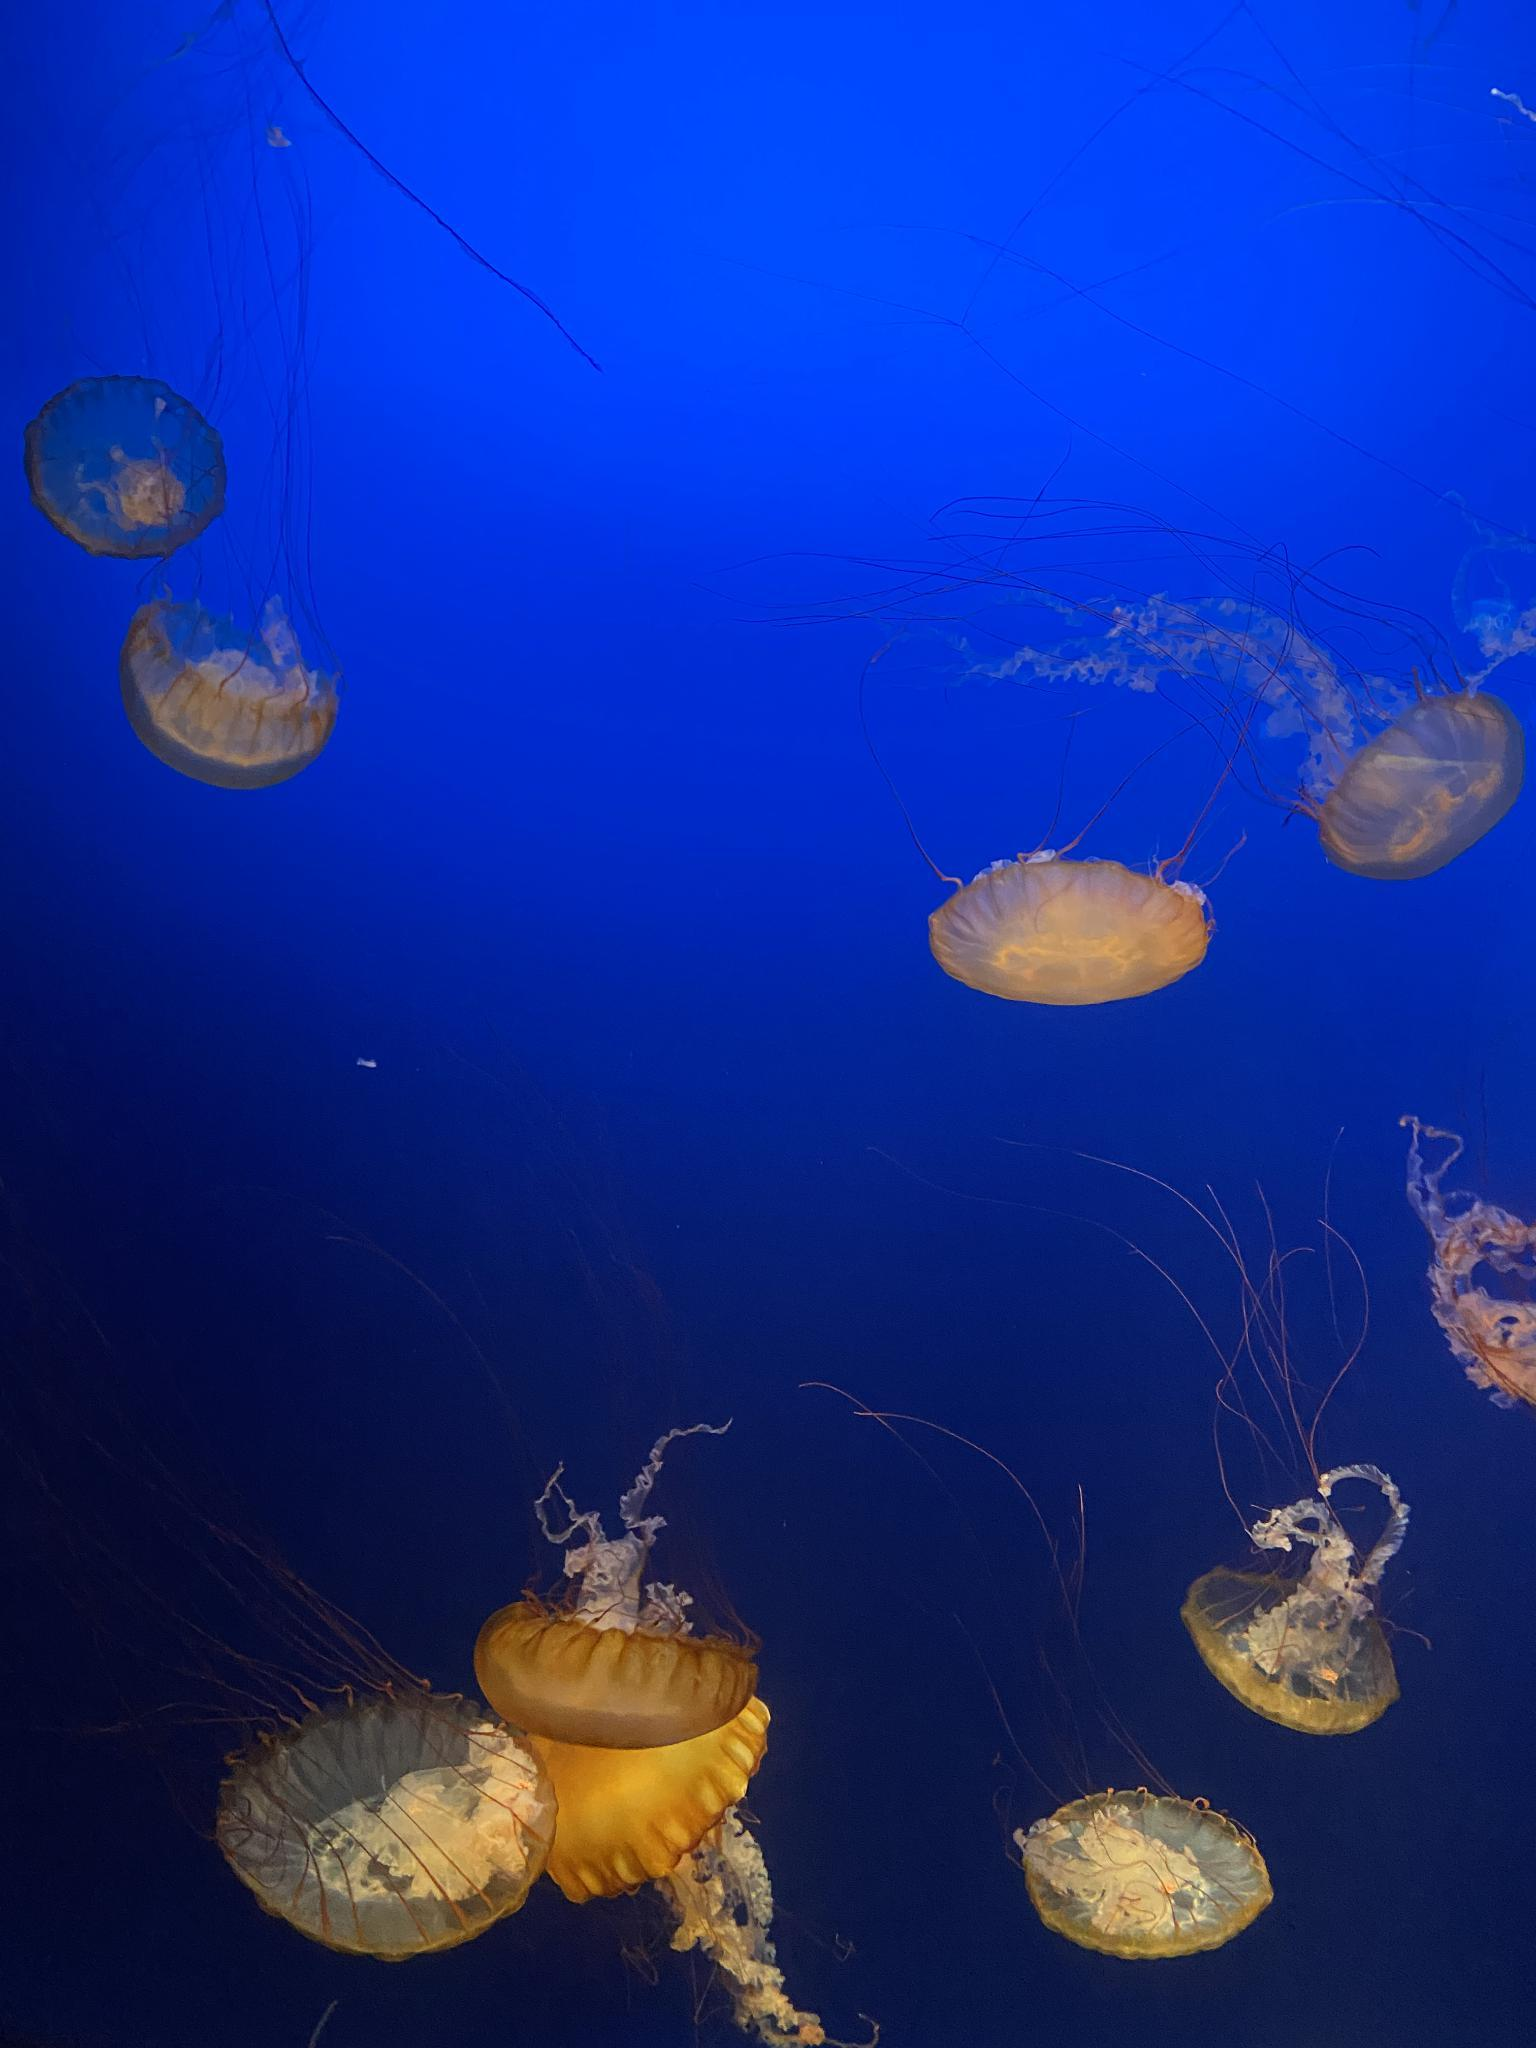jellyfish: (195, 1669, 544, 1958), (1170, 1534, 1417, 1761), (520, 1690, 771, 1893), (1263, 676, 1505, 887), (1005, 1787, 1275, 1975), (5, 373, 244, 561), (926, 851, 1210, 1009), (116, 593, 329, 792), (490, 1593, 750, 1737)
